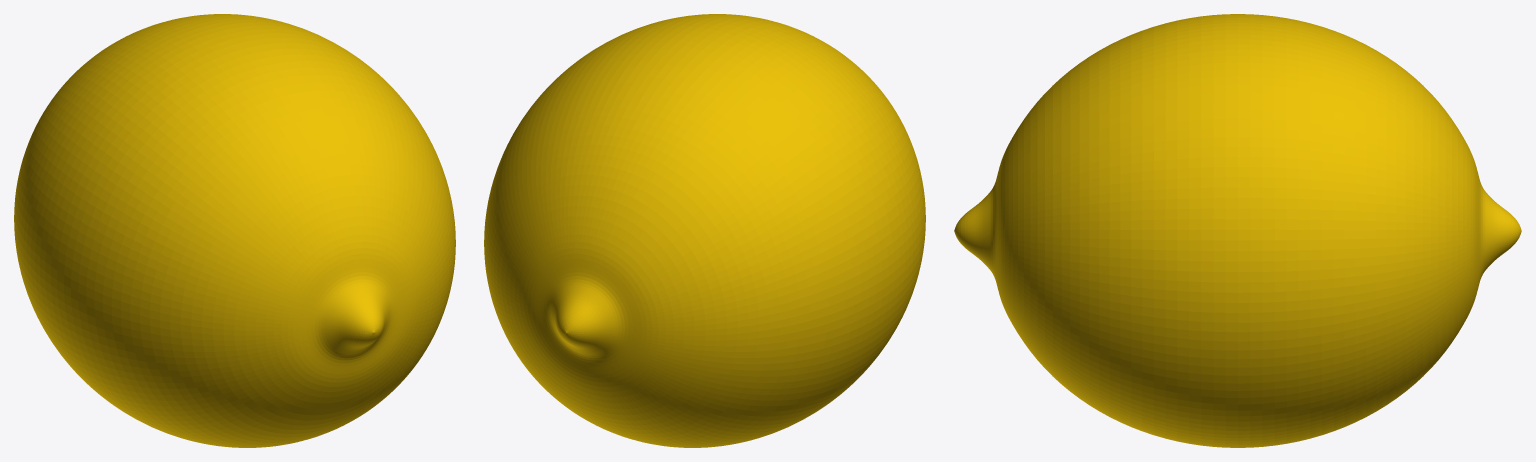
File: Lemon.fbx
The picture shows the model from 3 angles, left to right: view 1: azimuth 30°, elevation 25°; view 2: azimuth 150°, elevation 25°; view 3: azimuth 270°, elevation 25°; orthographic projection. The views are drawn at different scales.
Parts seen in each view (by area): view 1: Lemon; view 2: Lemon; view 3: Lemon.
Part boxes in pixels (box(x1,y1,x2,y2)): Lemon: box(14, 14, 455, 447); Lemon: box(484, 14, 925, 447); Lemon: box(954, 14, 1521, 447).
Size of the model in its own units: 13.82 by 13.82 by 18.08.
